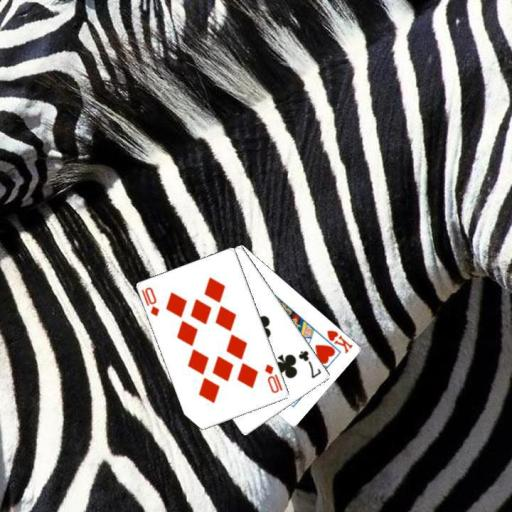10D: (262, 361, 285, 395), (139, 284, 161, 318)
7C: (295, 347, 323, 380)
KH: (323, 327, 355, 355)
